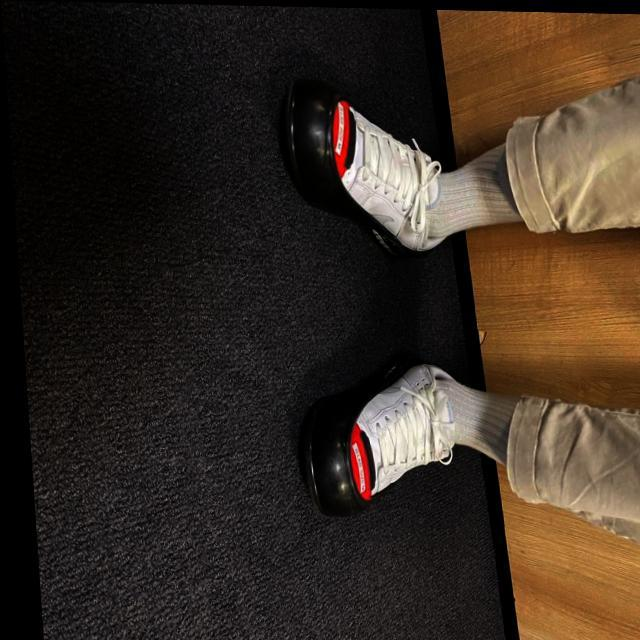shoes: (278, 69, 450, 276), (305, 353, 460, 527)
